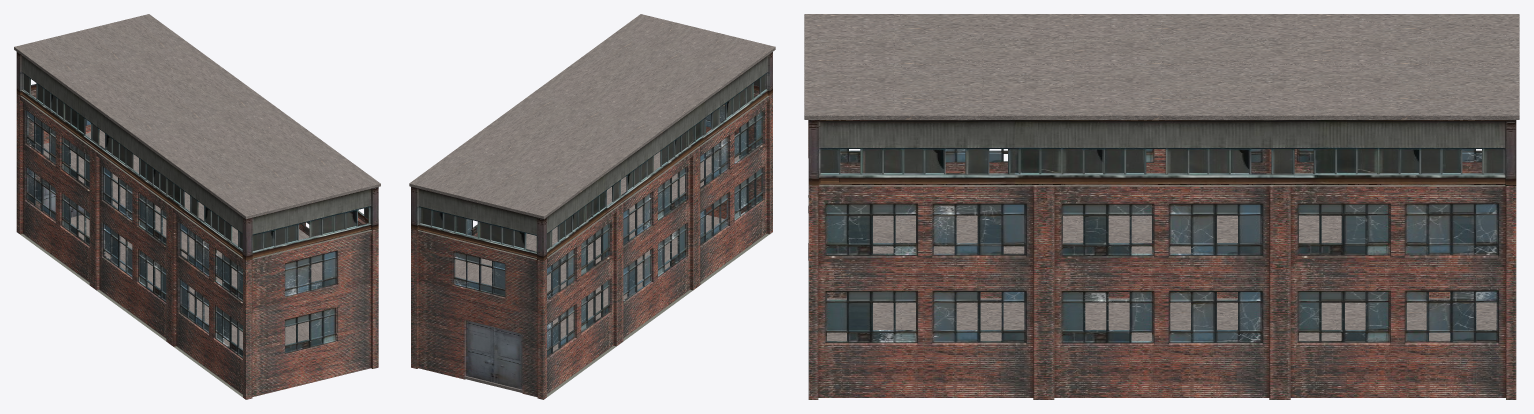
File: industrial_block_a.glb
The picture shows the model from 3 angles, left to right: view 1: azimuth 30°, elevation 25°; view 2: azimuth 150°, elevation 25°; view 3: azimuth 270°, elevation 25°; orthographic projection. The views are drawn at different scales.
Visible parts, largest first — view 1: industrial_block_a; view 2: industrial_block_a; view 3: industrial_block_a.
Boxes of the visible parts, <box> form: industrial_block_a: <box>14,14,380,399</box>; industrial_block_a: <box>409,14,775,399</box>; industrial_block_a: <box>804,14,1519,399</box>.
Bounding box in the file's own units: 4.37 × 5.72 × 13.
Materials: 3 (3 with a texture image).
